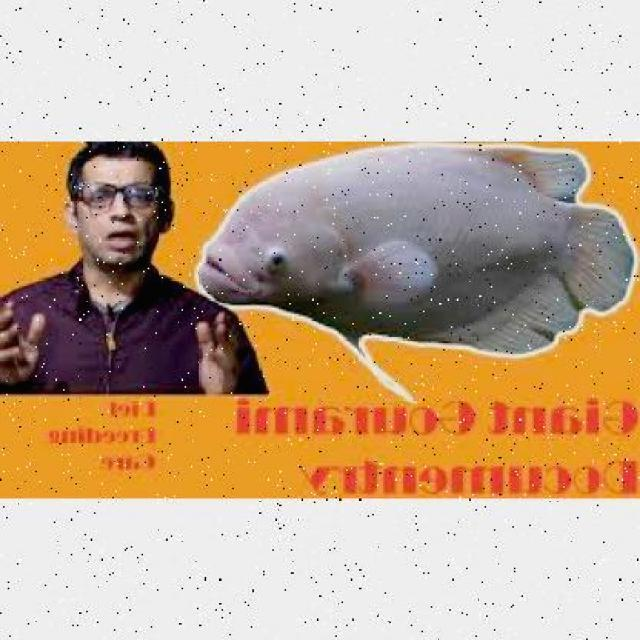gurame: (192, 140, 634, 368)
